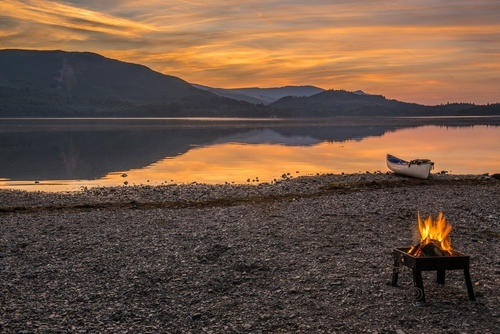fire: (410, 208, 456, 257)
